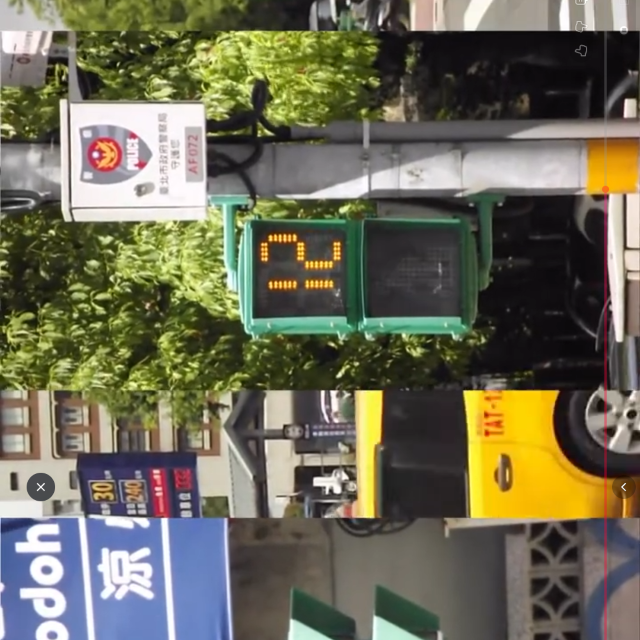green_light: (243, 223, 474, 330)
